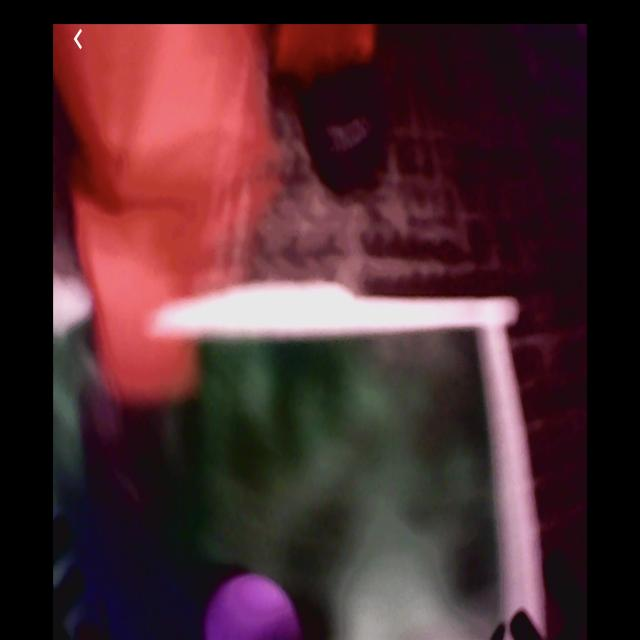ball: (204, 575, 302, 640)
